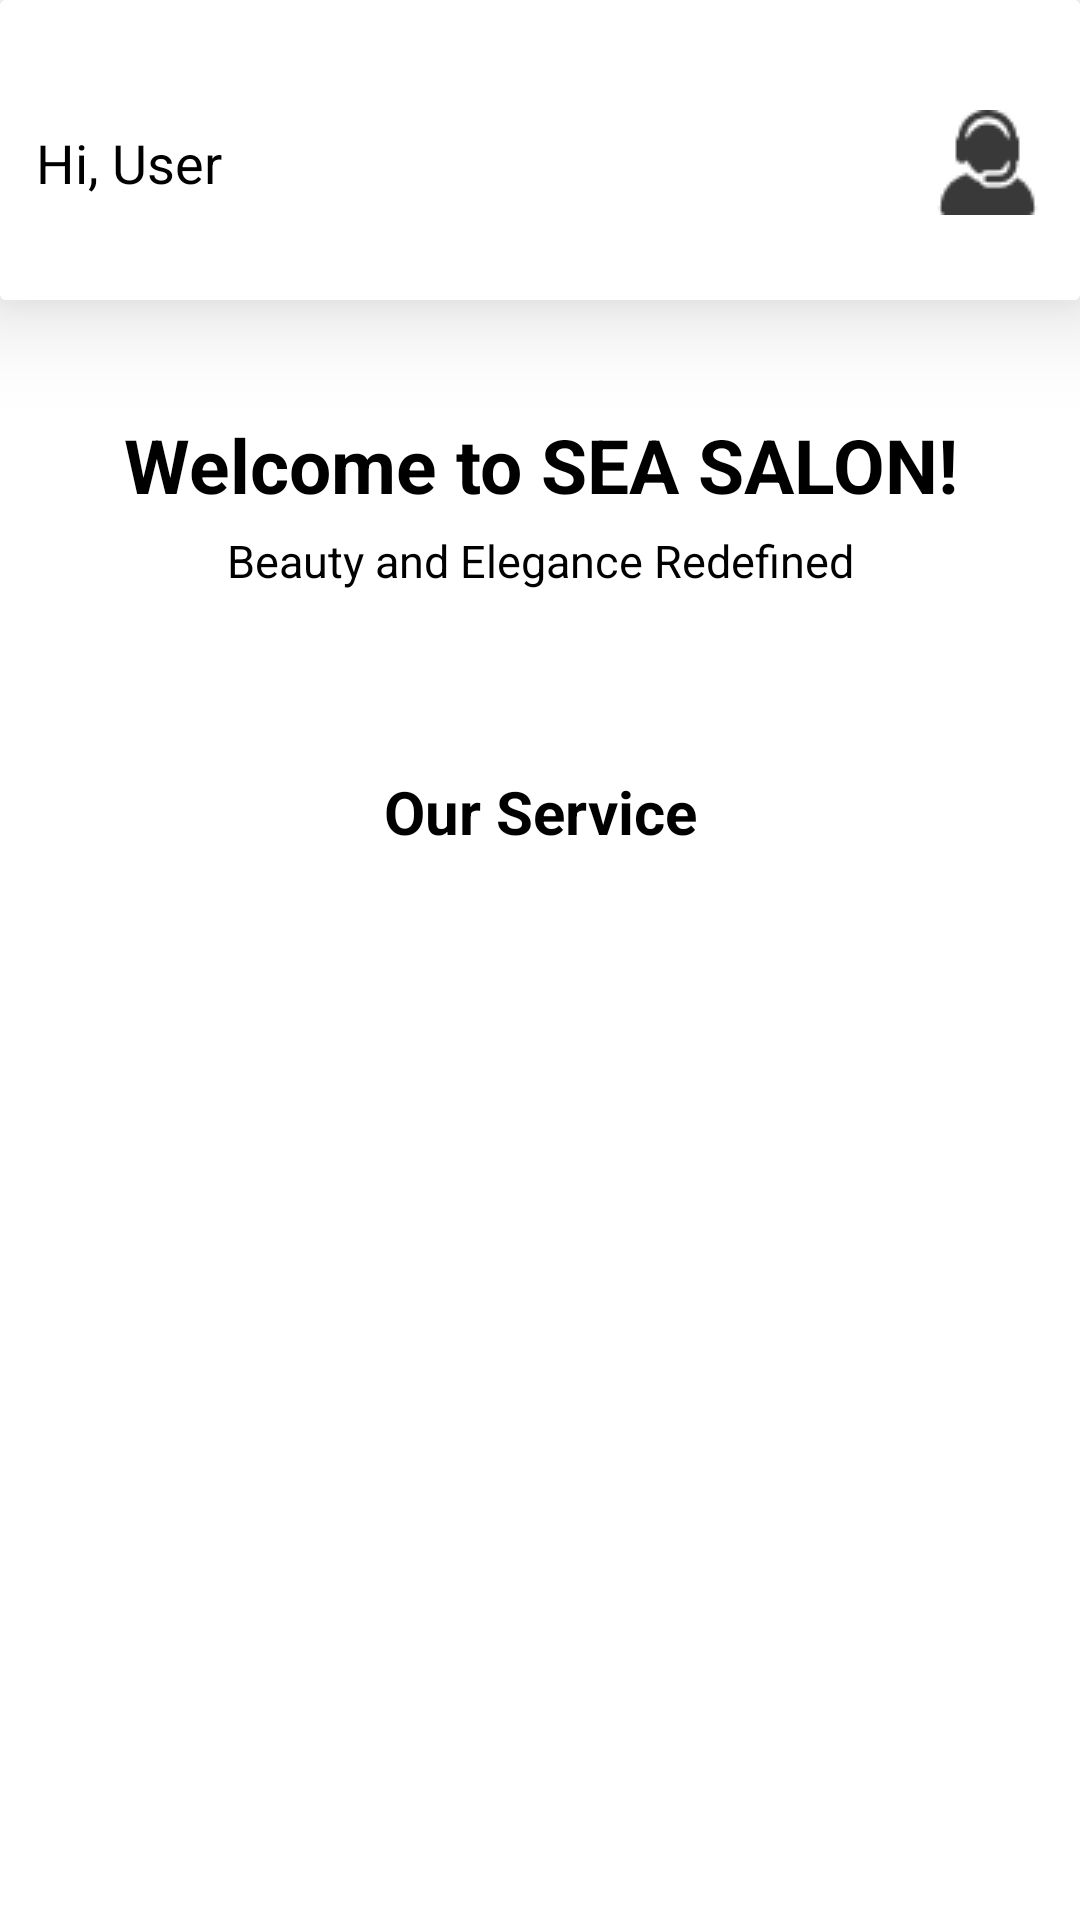

Named icons in this screenshot (1080 × 1920) and their bounding boxes, (x1, y1, x2, y2):
Customer Service: (939, 110, 1036, 215)
